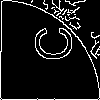C: (25, 25, 73, 62)
